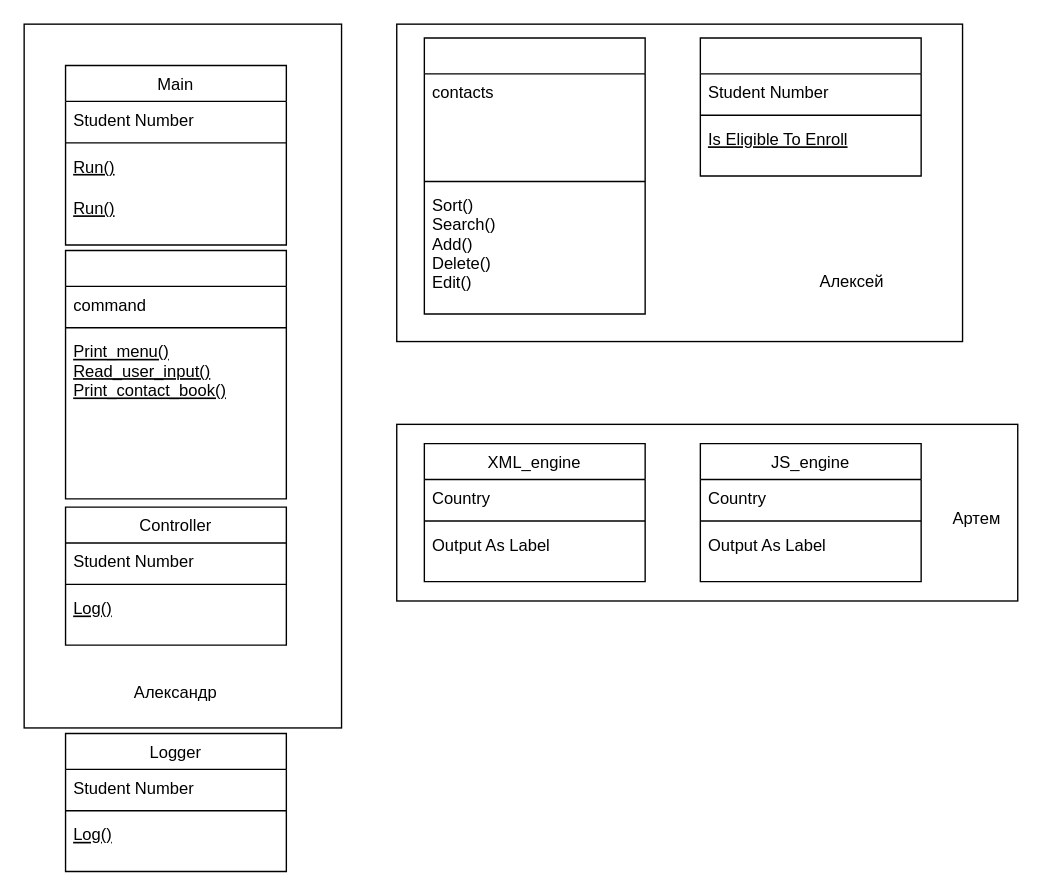
This 1042x896 diagram has some shape labels left out. Here are the shapes that lost their labels. From the top down, the box of each, then its label:
(699, 37, 921, 176): Person
(423, 37, 645, 314): ContactBook
(64, 249, 286, 499): VIew (UI)
